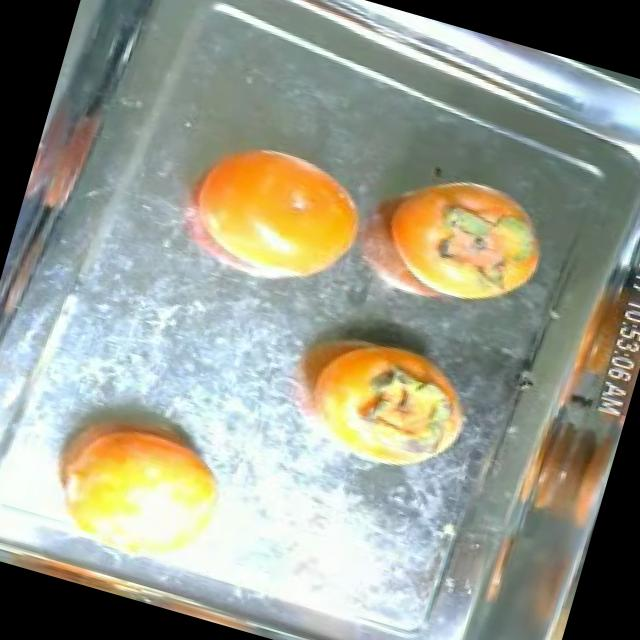Fruit: (17, 380, 254, 596), (340, 140, 572, 339), (202, 127, 387, 303), (314, 337, 490, 496)
